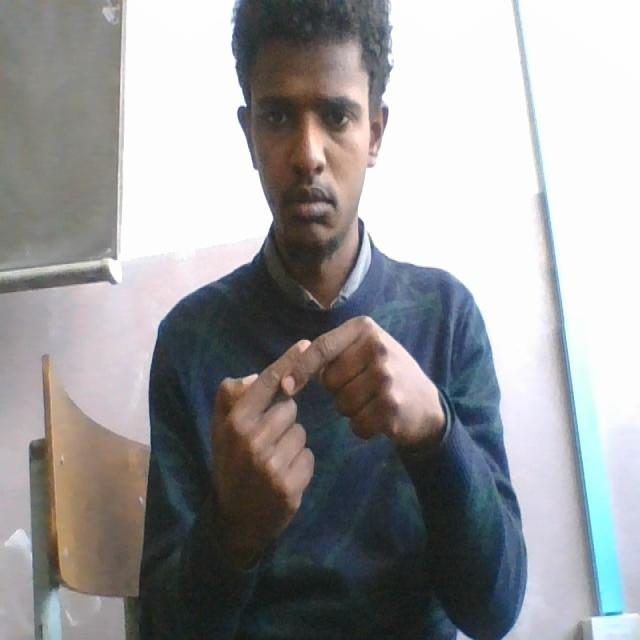eske: (213, 308, 446, 548)
